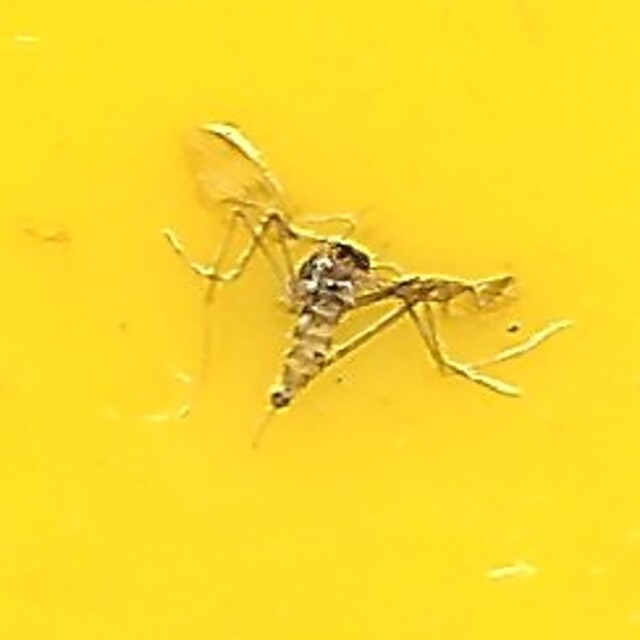Nematocera: (262, 229, 378, 411)
